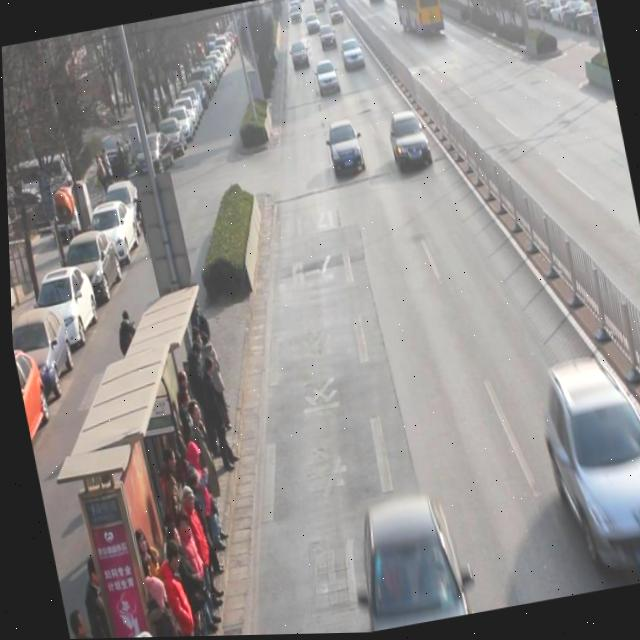car: (529, 347, 640, 578), (386, 107, 434, 174), (324, 117, 366, 178), (313, 58, 341, 98), (339, 34, 367, 74), (288, 37, 311, 69)
